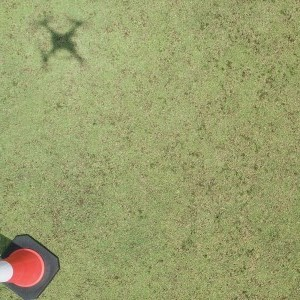traffic cone: (1, 233, 59, 300)
